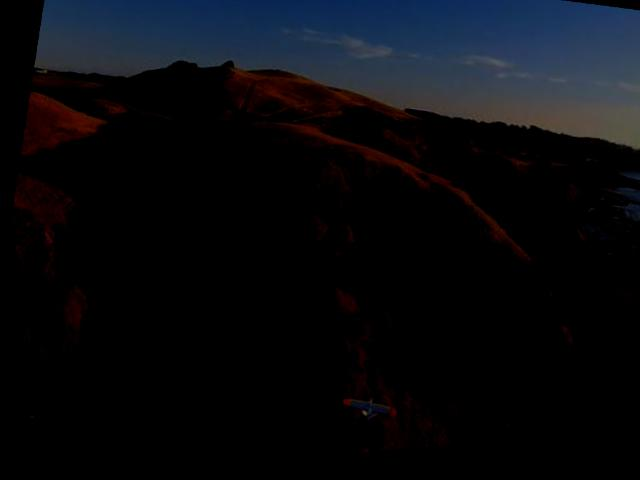uav: (331, 390, 397, 437)
